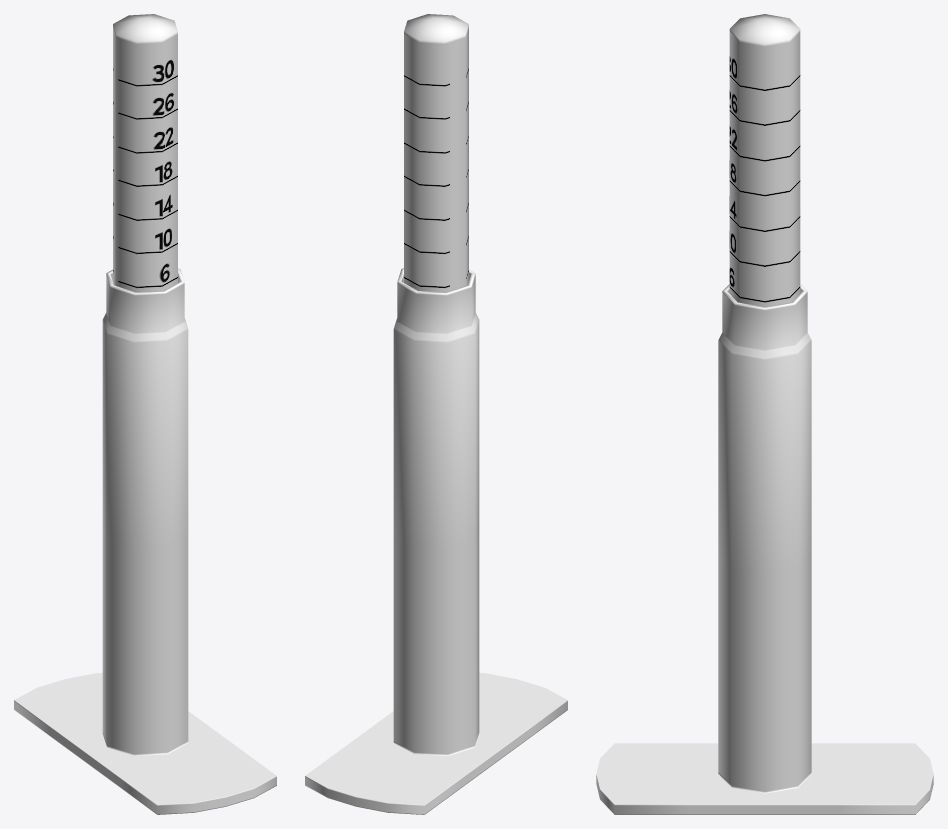
The model's file is depthGauge.fbx.
The picture shows the model from 3 angles, left to right: view 1: azimuth 30°, elevation 25°; view 2: azimuth 150°, elevation 25°; view 3: azimuth 270°, elevation 25°; orthographic projection. The views are drawn at different scales.
Visible parts, largest first — view 1: DepthGauge, Depth; view 2: DepthGauge, Depth; view 3: DepthGauge, Depth.
Boxes of the visible parts, x1,y1,x2,y2 form: DepthGauge: (14, 268, 276, 814); Depth: (113, 14, 177, 292); DepthGauge: (305, 268, 567, 814); Depth: (404, 14, 468, 292); DepthGauge: (596, 284, 933, 814); Depth: (729, 14, 800, 306).
Bounding box in the file's own units: 1.27 × 7.66 × 2.96.
Materials: 1 (1 with a texture image).
